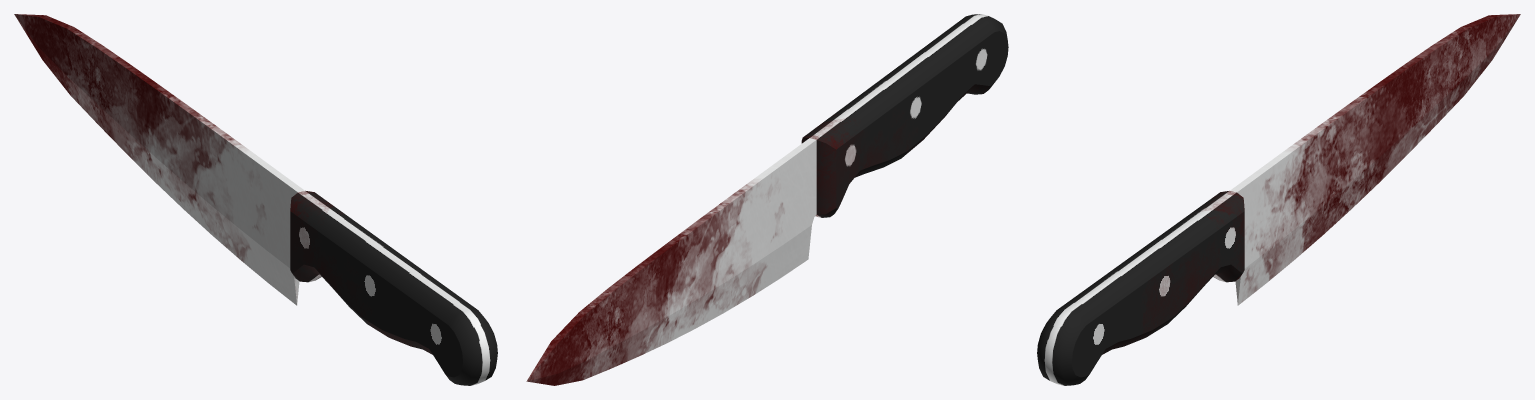
Rendered from knife 1.fbx.
3 renders of one model, left to right at view 1: azimuth 30°, elevation 25°; view 2: azimuth 150°, elevation 25°; view 3: azimuth 330°, elevation 25°, orthographic.
Parts seen in each view (by area): view 1: knife; view 2: knife; view 3: knife.
Part boxes in pixels (x1,y1,x2,y2): knife: (14, 14, 497, 385); knife: (526, 14, 1008, 385); knife: (1037, 14, 1520, 385).
Bounding box in the file's own units: 1.42 × 33.39 × 4.65.
